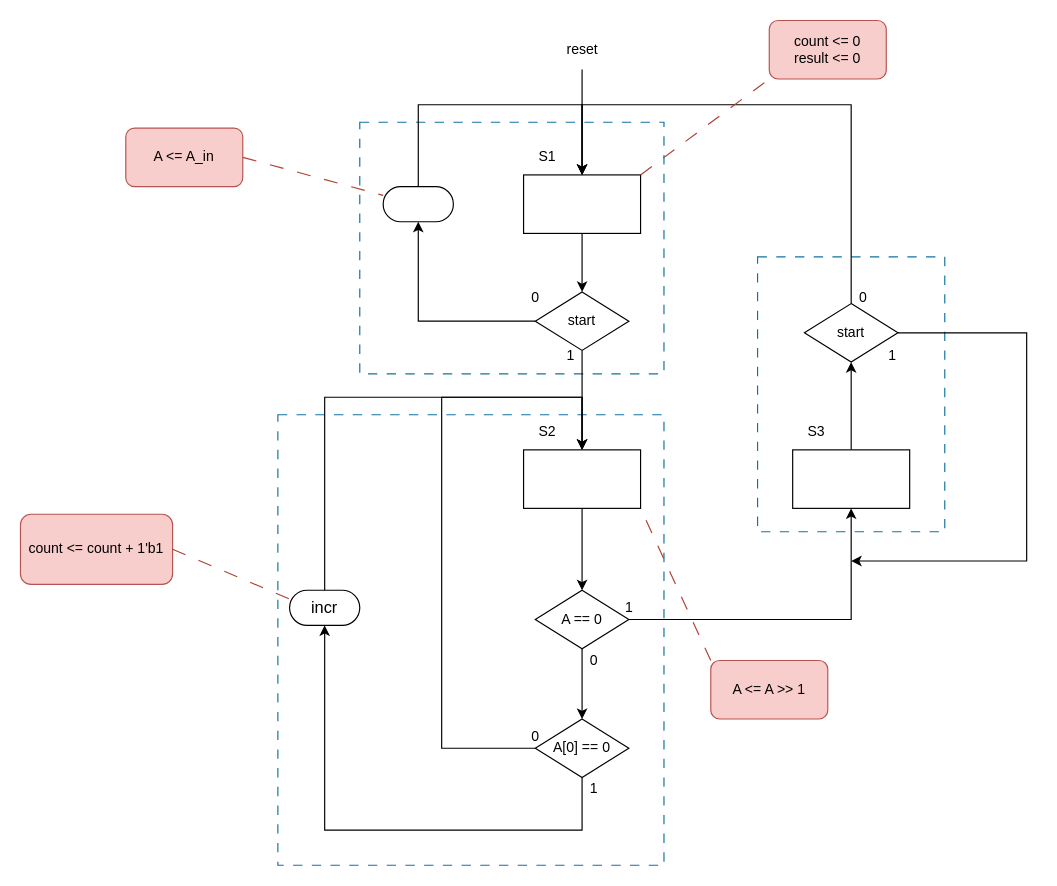
Image size: 1057x886. Some labels were removed from this diagram. Here are the shapes that lost their labels. From the top down, the centre of each, then its label:
At point (417, 203): "load_a".
At point (581, 203): "clear_result".
At point (581, 478): "right_shift".
At point (851, 478): "done".
